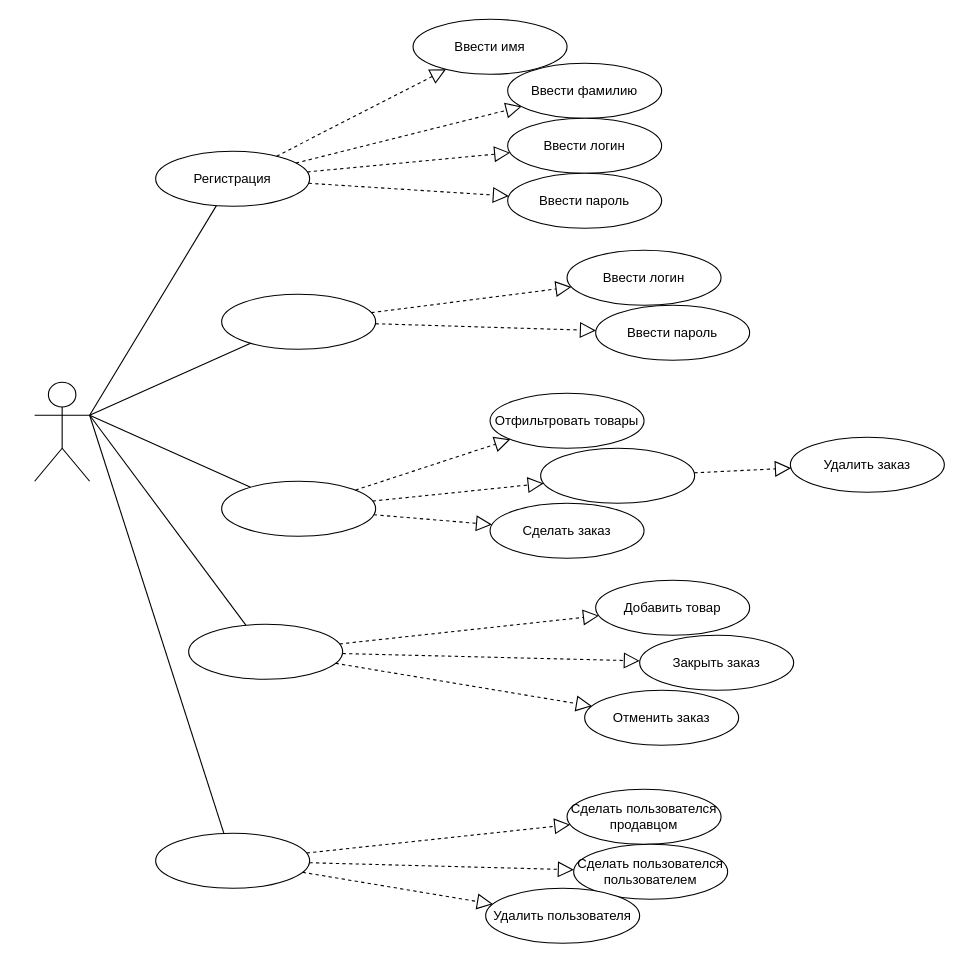
The diagram is 964 pixels wide and 963 high, and some of its shapes have lost their labels. Each missing label, with the centre of its shape:
"Авторизация" goes at point (298, 321).
"Меню администратора" goes at point (232, 860).
"Меню пользователя" goes at point (298, 508).
"Меню продавца" goes at point (265, 651).
"Пользователь" goes at point (62, 431).
"Посмотреть заказы" goes at point (617, 475).
